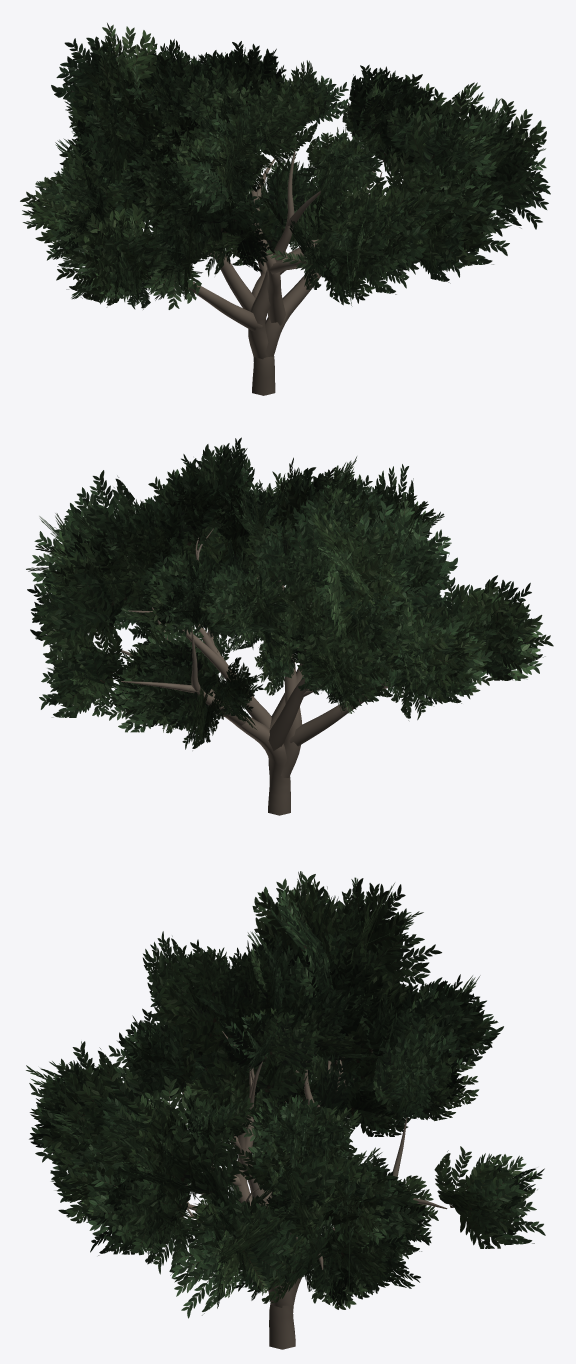
File: olive_lod1.glb
3 views of the same model, one above another, from view 1: azimuth 30°, elevation 25°; view 2: azimuth 150°, elevation 25°; view 3: azimuth 270°, elevation 25° (orthographic). The views are drawn at different scales.
Parts seen in each view (by area): view 1: Tree_Foliage_Main_LOD1, Tree_Foliage_Secondary_LOD1, Tree_Trunk_LOD1; view 2: Tree_Foliage_Main_LOD1, Tree_Foliage_Secondary_LOD1, Tree_Trunk_LOD1; view 3: Tree_Foliage_Main_LOD1, Tree_Foliage_Secondary_LOD1, Tree_Trunk_LOD1.
Part boxes in pixels (x1=…): Tree_Foliage_Main_LOD1: x1=20, y1=23, x2=550, y2=309; Tree_Foliage_Secondary_LOD1: x1=112, y1=41, x2=453, y2=305; Tree_Trunk_LOD1: x1=147, y1=144, x2=382, y2=395; Tree_Foliage_Main_LOD1: x1=26, y1=437, x2=553, y2=732; Tree_Foliage_Secondary_LOD1: x1=93, y1=456, x2=439, y2=750; Tree_Trunk_LOD1: x1=109, y1=528, x2=387, y2=815; Tree_Foliage_Main_LOD1: x1=26, y1=871, x2=545, y2=1318; Tree_Foliage_Secondary_LOD1: x1=71, y1=931, x2=479, y2=1309; Tree_Trunk_LOD1: x1=183, y1=1060, x2=447, y2=1349.
Size of the model in its own units: 1.57 by 1.09 by 1.3.
3 materials, 2 textured.
